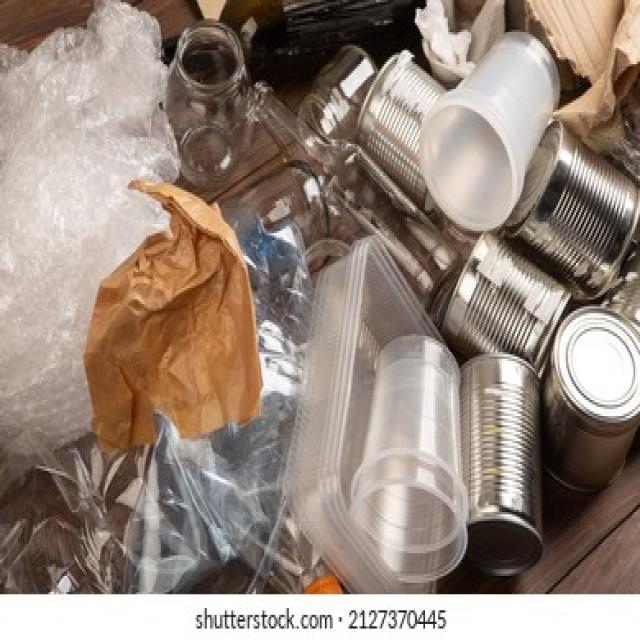metal: (553, 327, 630, 464), (468, 366, 533, 521), (555, 148, 620, 268), (461, 251, 538, 343)
plastic: (316, 288, 432, 530)
